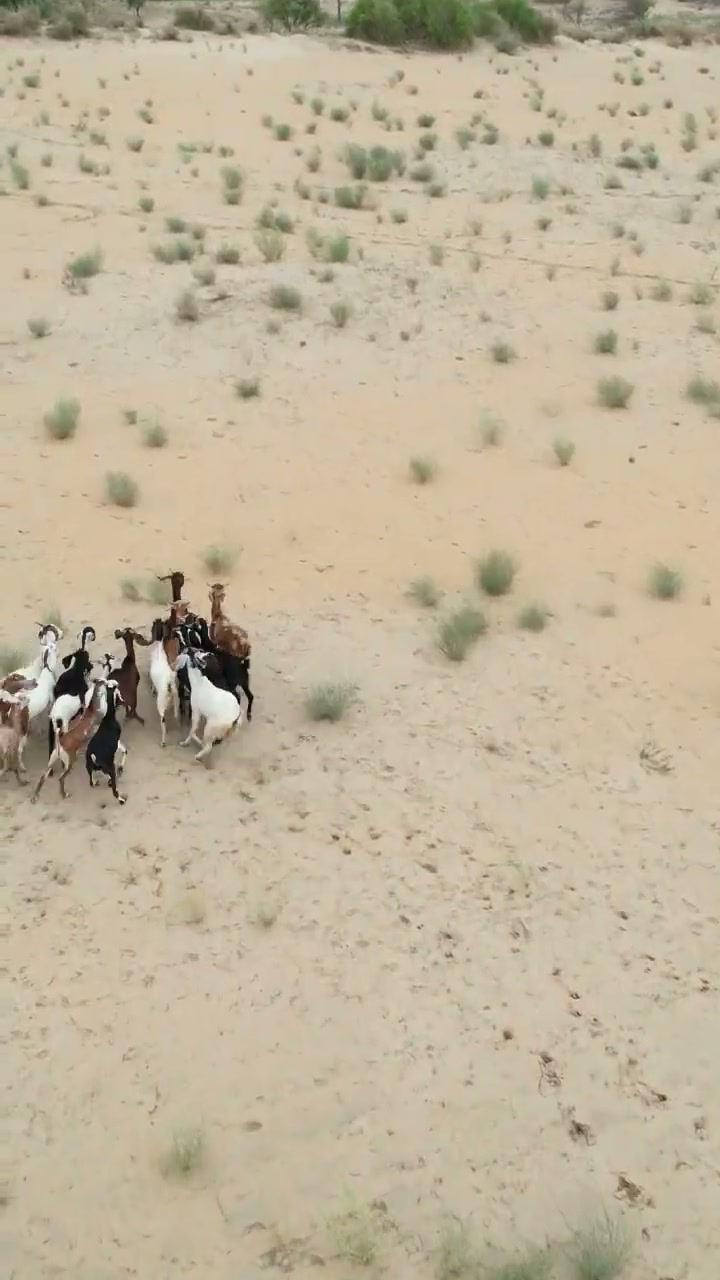animal_footprint: (0, 756, 709, 1207)
